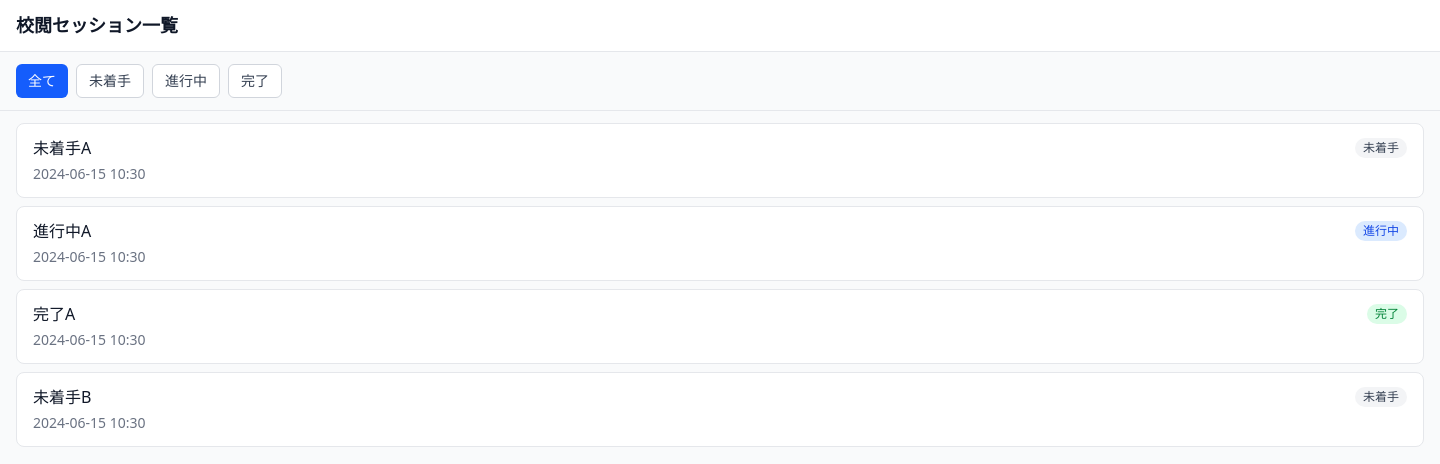
Test: SessionListPage › filtering (uncontrolled fallback — assigned/joinable) › filters by IN_PROGRESS status locally
Click the tab "進行中" at (186, 81), box x1=152 y1=64 x2=220 y2=98
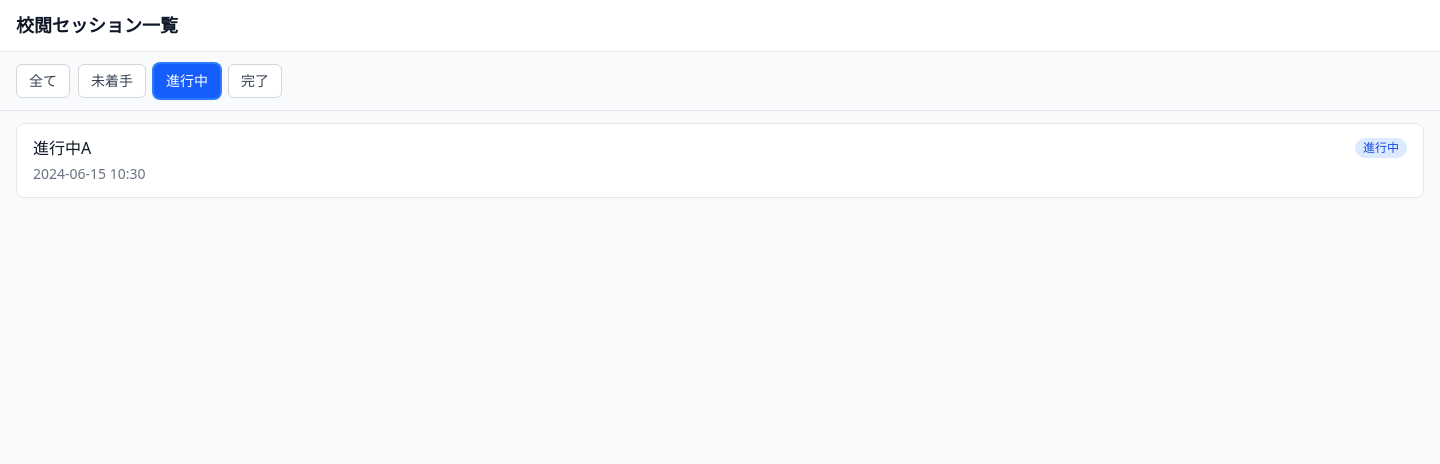
expect the text "進行中A" is shown: met, box x1=33 y1=136 x2=91 y2=160
expect the button "未着手A" is gone: met
expect the button "完了A" is gone: met
